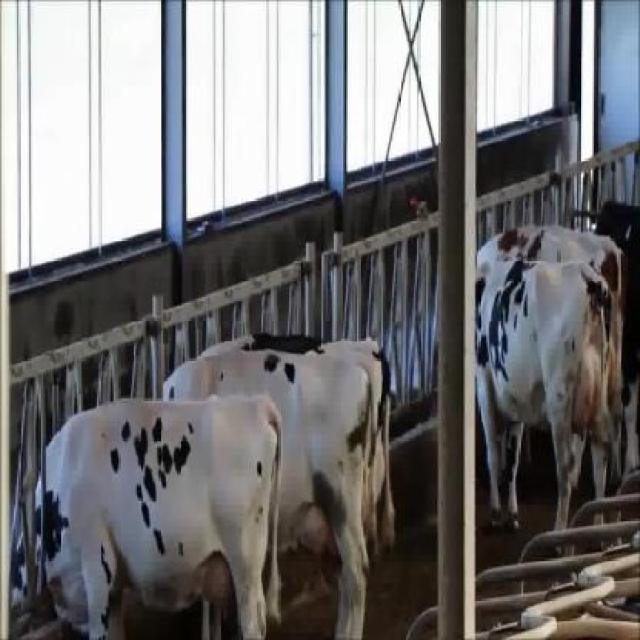Cow: (162, 331, 398, 638), (9, 394, 285, 638), (475, 251, 617, 552)
